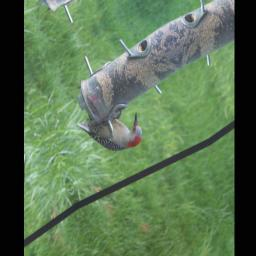Woodpecker: (75, 91, 147, 170)
